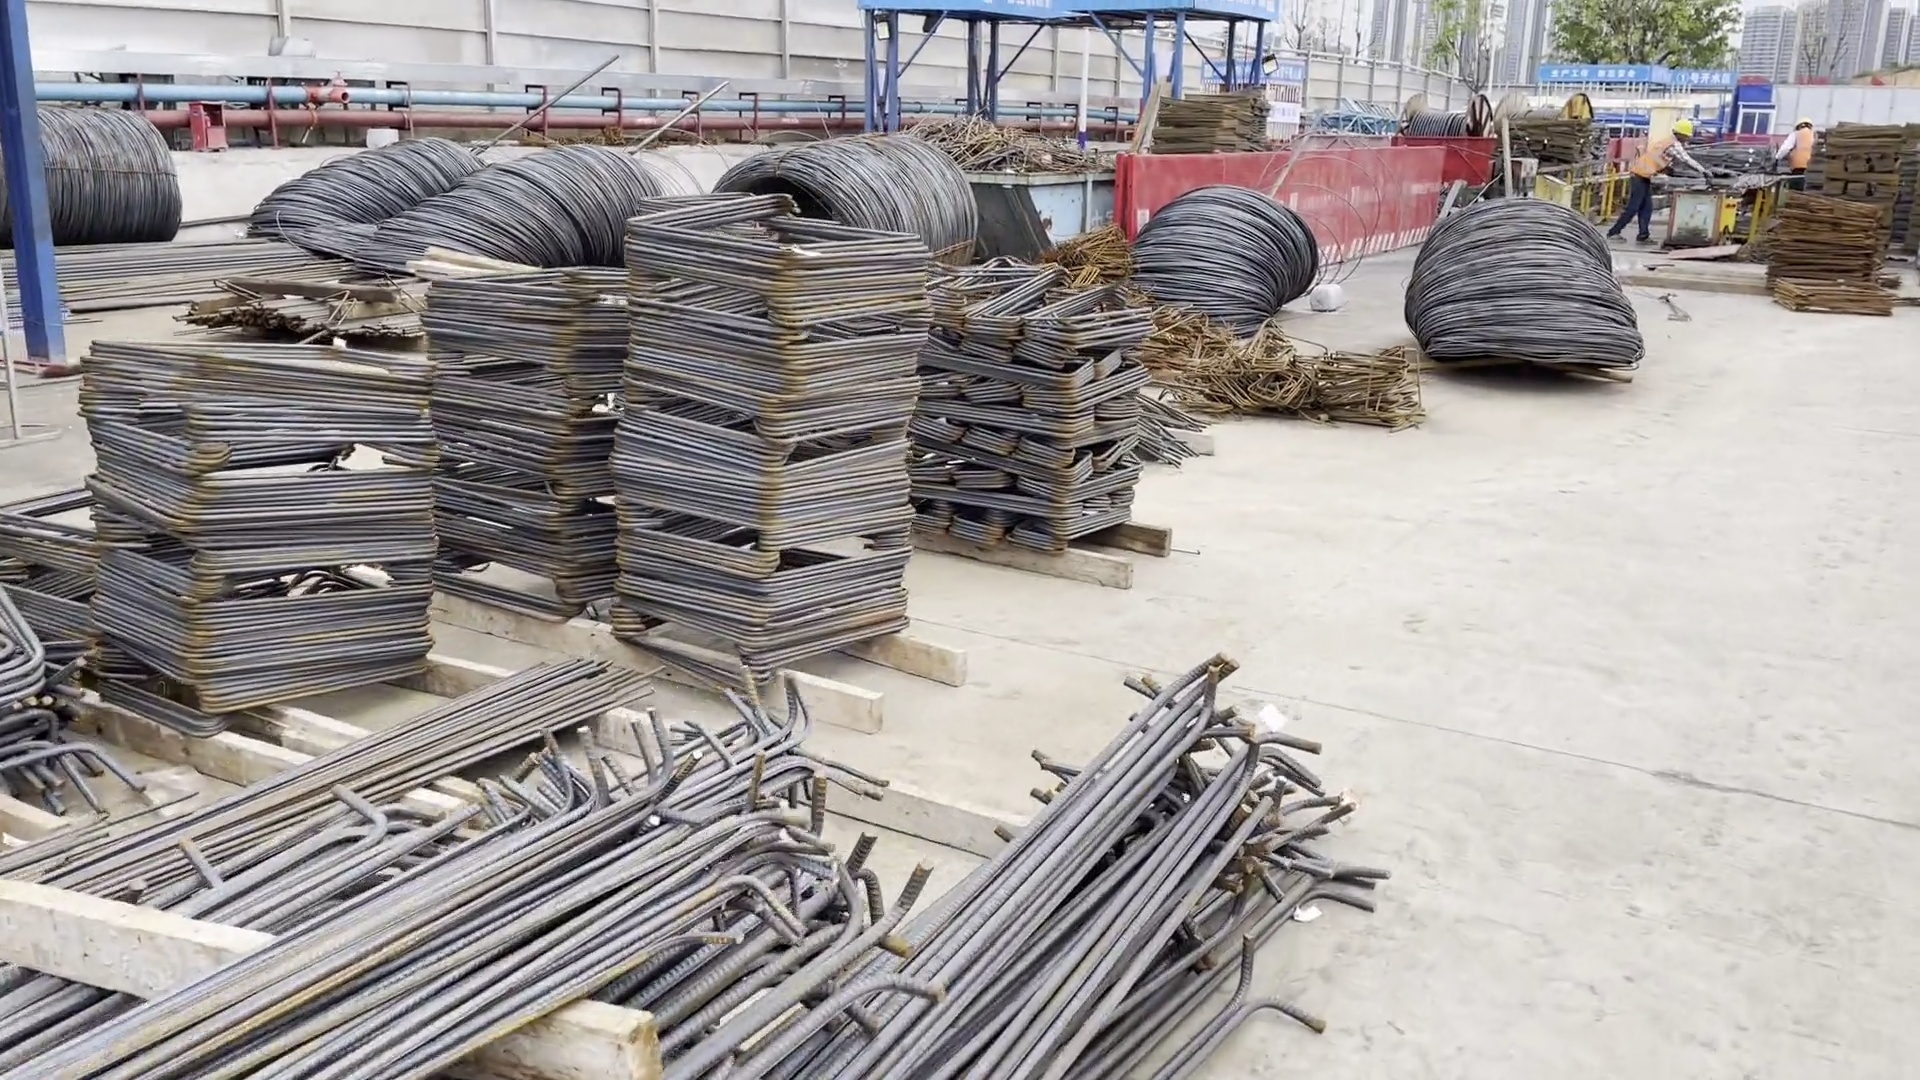cutter: (1660, 184, 1734, 261)
fence: (1108, 146, 1441, 273), (1394, 128, 1495, 201)
helmet: (1669, 113, 1698, 138), (1791, 112, 1819, 129)
hopper: (956, 151, 1117, 251)
person: (1611, 108, 1720, 245), (1750, 100, 1829, 187)
rebar: (1, 642, 1451, 1080), (2, 509, 81, 795)
slogan: (834, 1, 1303, 59), (1527, 53, 1737, 97), (1192, 57, 1306, 93)
vest: (1624, 137, 1697, 205), (1782, 131, 1818, 169)
